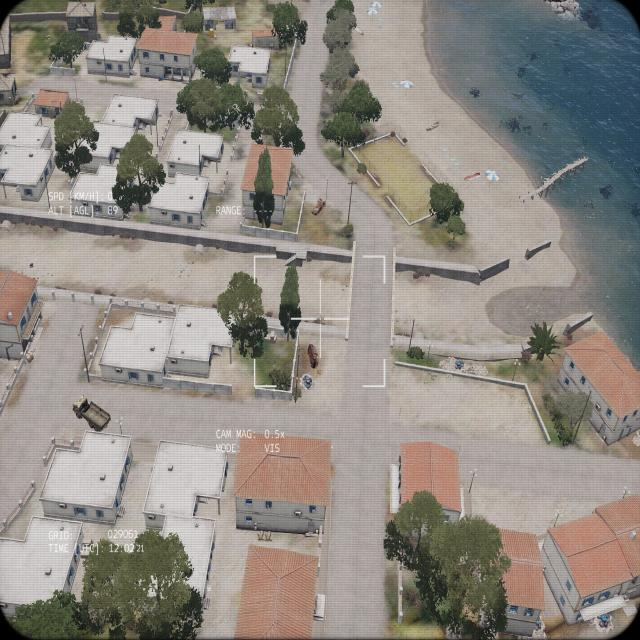truck: (73, 394, 110, 432)
